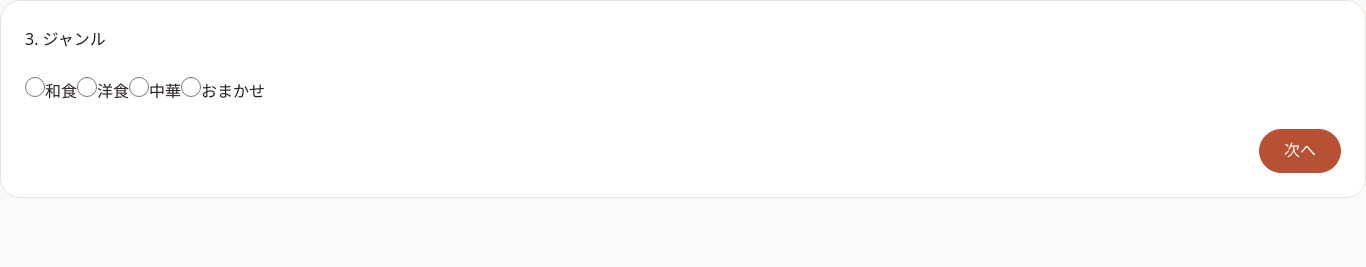
CuisineStep incomplete UX › cuisine incomplete next: toast+alert+focus
Click the button "次へ" at (1300, 151), box [1259,129,1341,173]
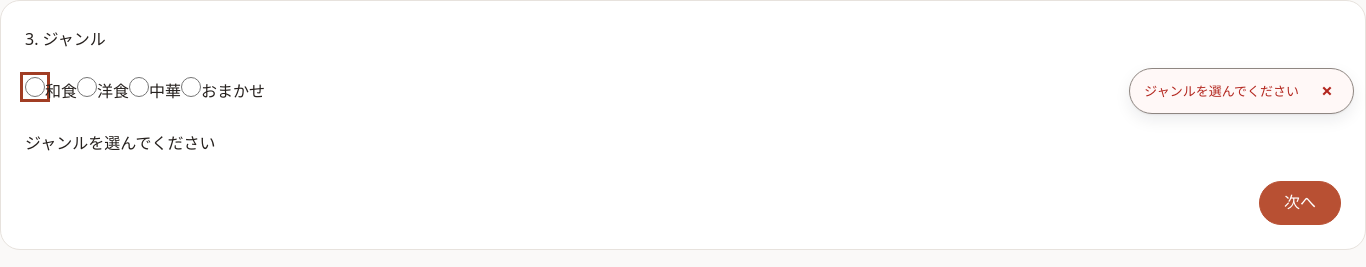
Result: the message "ジャンルを選んでください" is shown at [25,132,215,154]
Result: the message "ジャンルを選んでください ×" is shown at [1129,68,1354,114]
